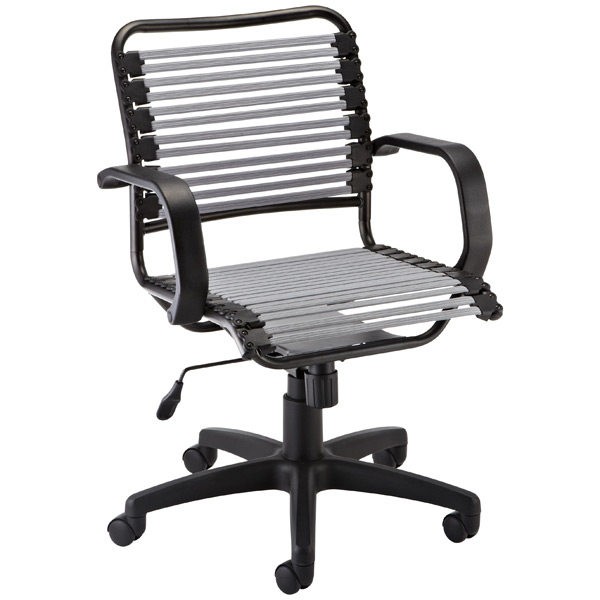chairs: (89, 3, 505, 592)
